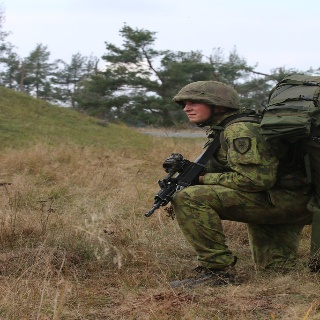rifle: (143, 129, 223, 220)
